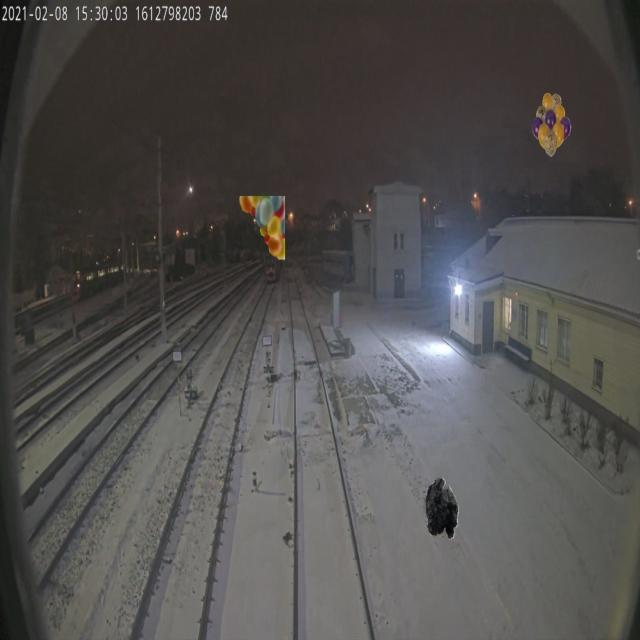balloon: (239, 196, 285, 260), (532, 92, 571, 156)
plastic bag: (425, 476, 459, 540)
